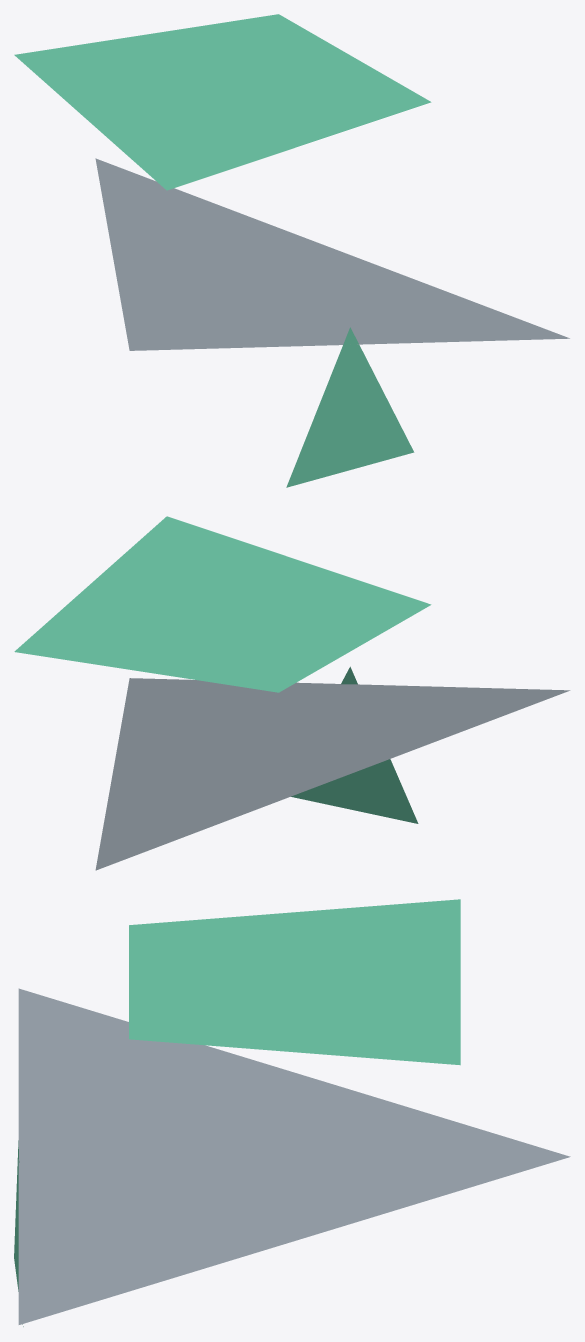
Rendered from CO_GunTurret_LOD2.glb.
3 renders of one model, top to bottom at view 1: azimuth 30°, elevation 25°; view 2: azimuth 150°, elevation 25°; view 3: azimuth 270°, elevation 25°, orthographic. The views are drawn at different scales.
Visible parts, largest first — view 1: EntranceGate; view 2: EntranceGate; view 3: EntranceGate.
Part boxes in pixels (box(x1,y1,x2,y2)): EntranceGate: box(14, 14, 569, 487); EntranceGate: box(14, 516, 570, 870); EntranceGate: box(14, 899, 570, 1326).
Size of the model in its own units: 400 by 258 by 403.
